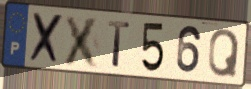5: (140, 22, 165, 74)
6: (175, 24, 202, 78)
Q: (207, 27, 242, 79)
T: (107, 19, 132, 70)
X: (61, 13, 102, 70), (28, 10, 66, 67)
